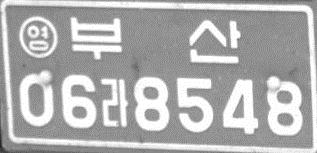0: (18, 72, 55, 128)
4: (222, 78, 258, 134)
5: (176, 77, 214, 133)
6: (59, 73, 96, 128)
8: (266, 79, 303, 135), (133, 76, 170, 131)
라: (99, 77, 129, 128)
부산_D: (68, 16, 242, 64)
영: (17, 15, 58, 58)
